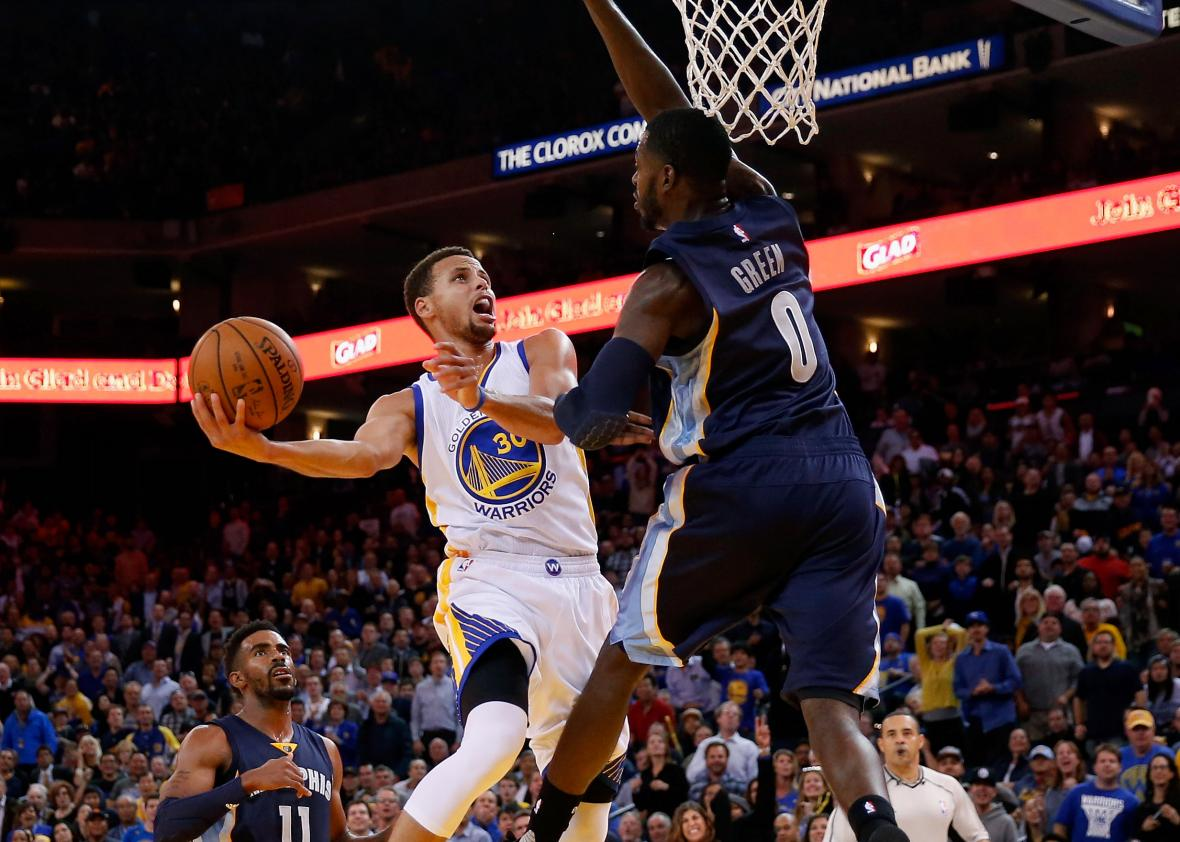Basketball: (182, 312, 311, 436)
